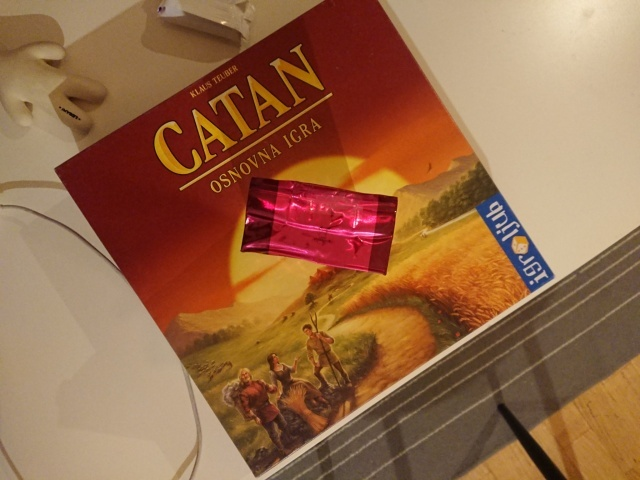Barcaffe Classic Original 225g: (238, 176, 401, 279)
